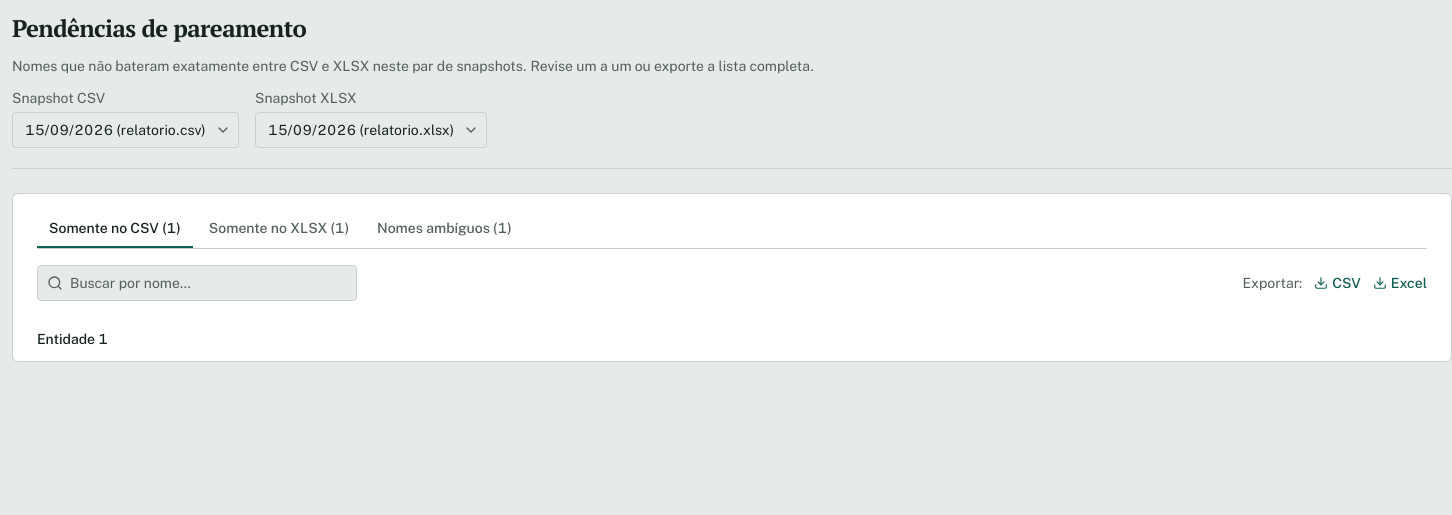
Test case: PendenciasPage › mostra a tabela de candidatos na aba de nomes ambiguos
The width and height of the screenshot is (1452, 515).
Expected: the tab "Somente no CSV (1)" is shown, [37,210,193,248]
What coordinates should you click on to do the following:
click the tab "Nomes ambíguos (1)"
I would click on:
 (444, 229)
Its box is [365,210,524,248].
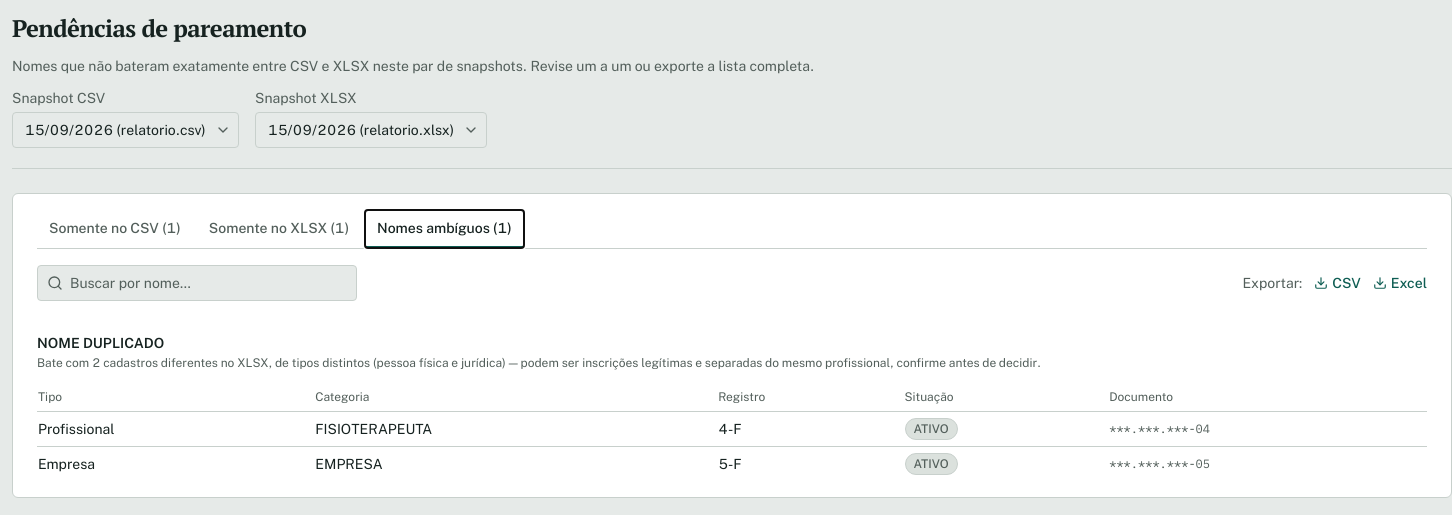
Expected: the number of rows is 3, [37,383,1427,412]; [37,412,1427,446]; [37,446,1427,481]
